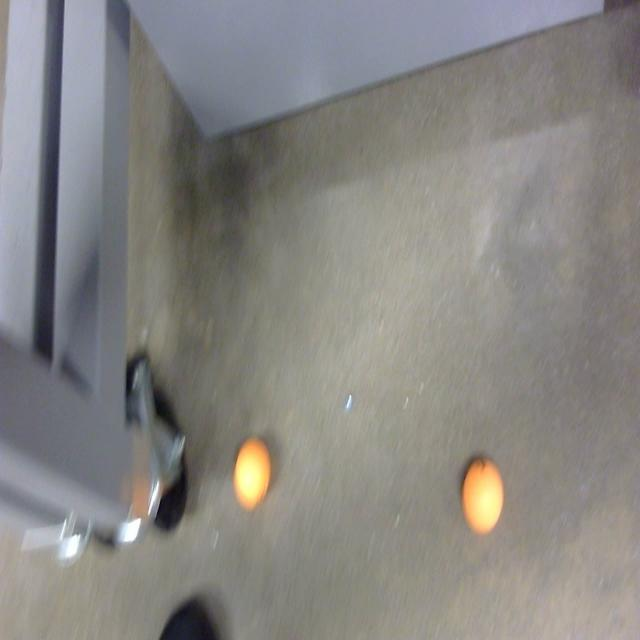ball: (460, 458, 506, 536), (234, 436, 272, 512)
